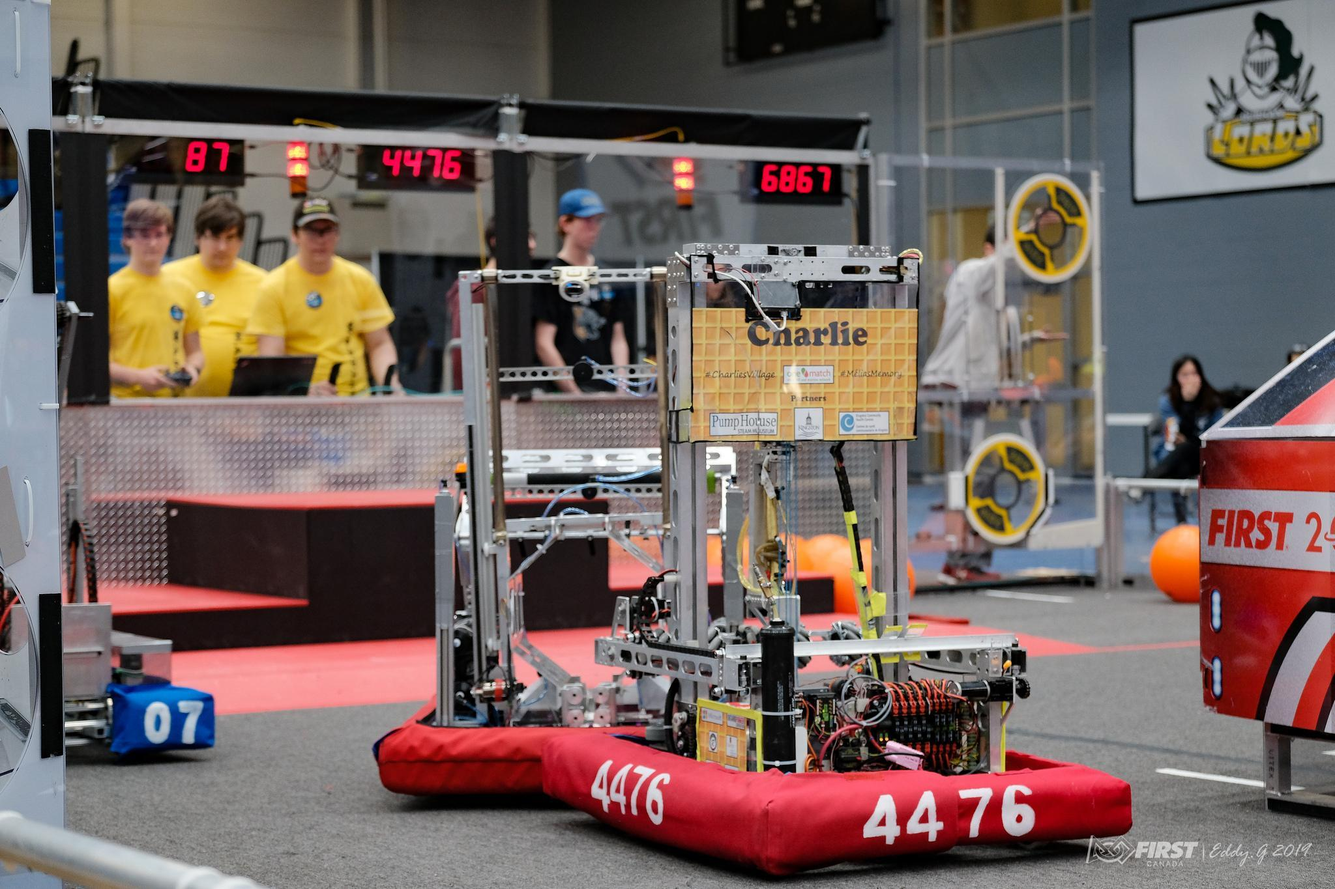robot: (542, 234, 1143, 879), (366, 251, 703, 809), (0, 253, 242, 767)
